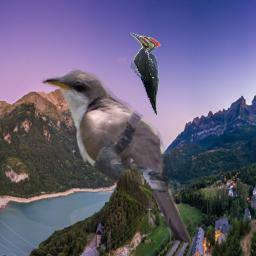Cuckoo: (39, 67, 191, 249)
Woodpecker: (129, 32, 161, 115)
